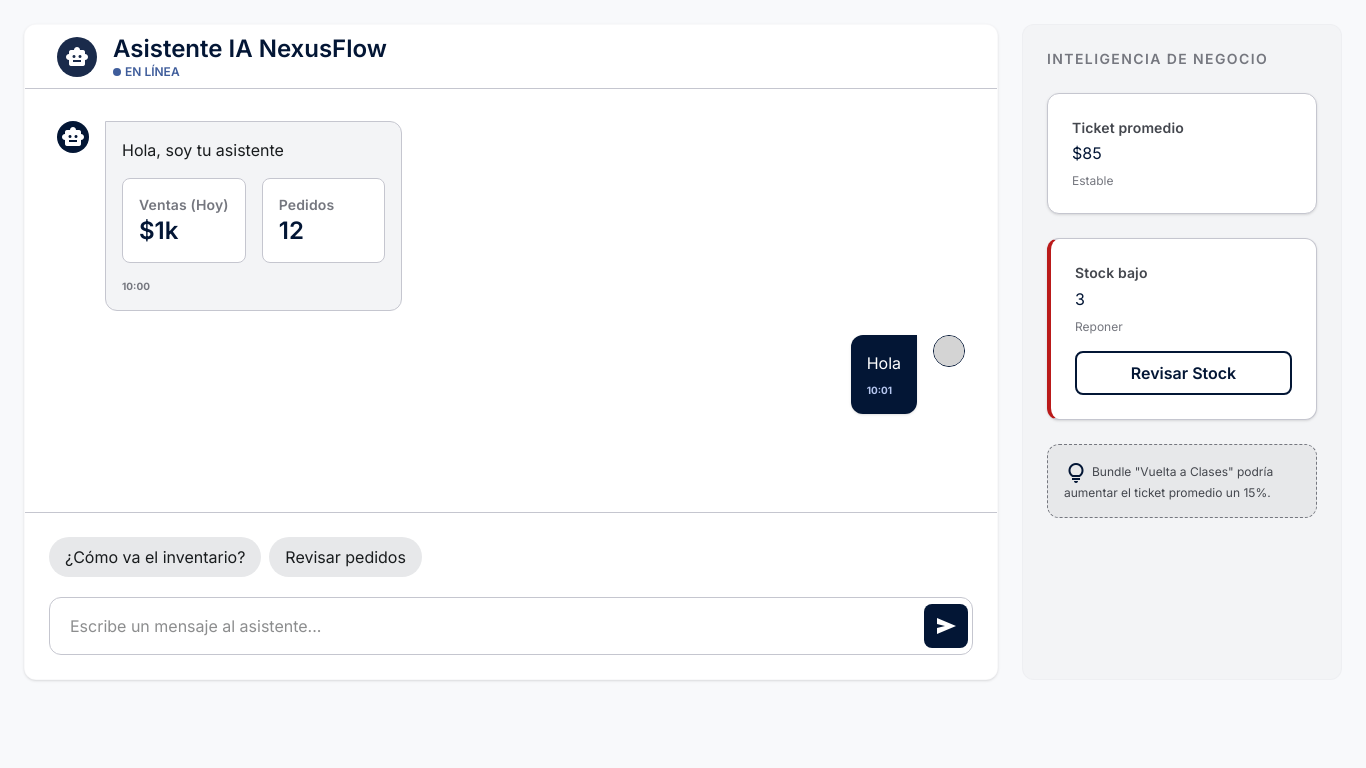
MerchantAssistantPage › populates input when suggestion clicked
The width and height of the screenshot is (1366, 768).
Click the button "¿Cómo va el inventario?" at coordinates (155, 557), box [49, 537, 261, 577]
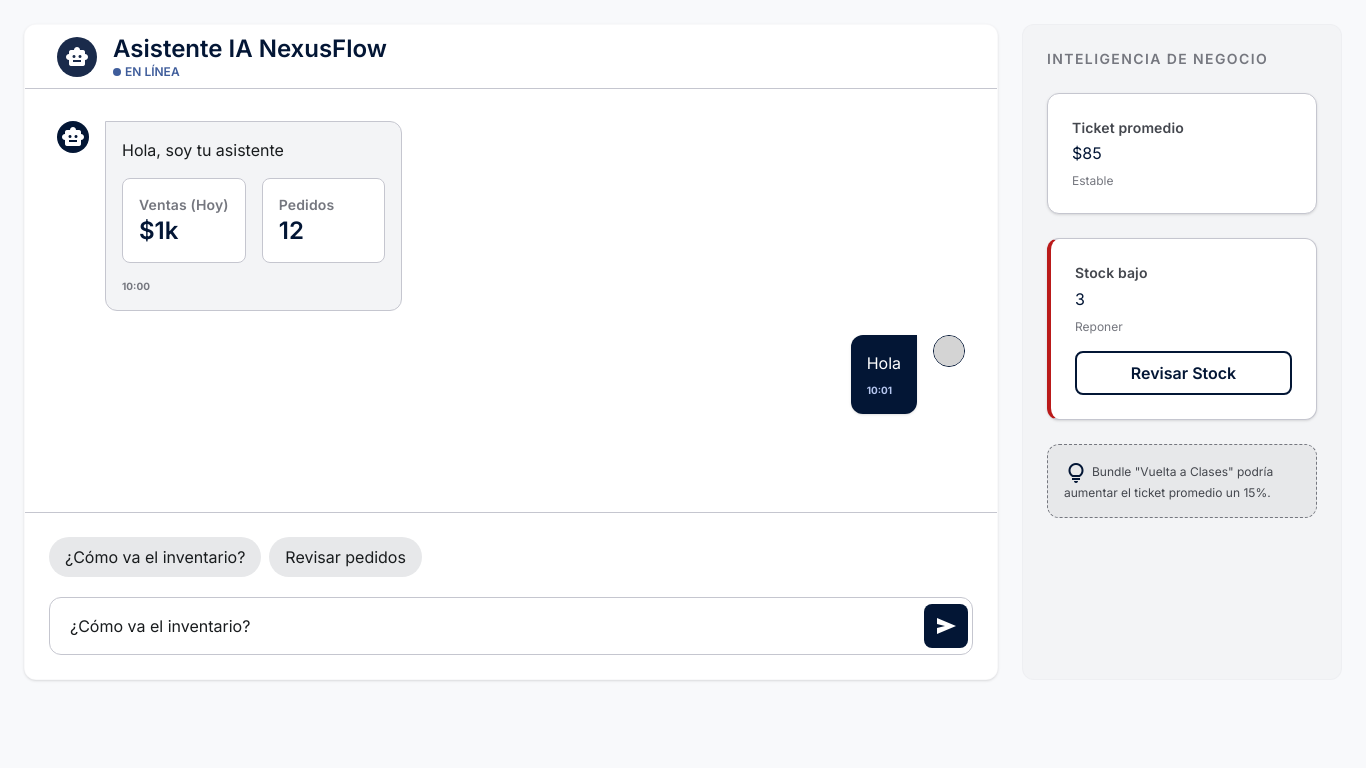
Check: the field with placeholder "Escribe un mensaje al asistente..." holds "¿Cómo va el inventario?", box [54, 602, 908, 650]
